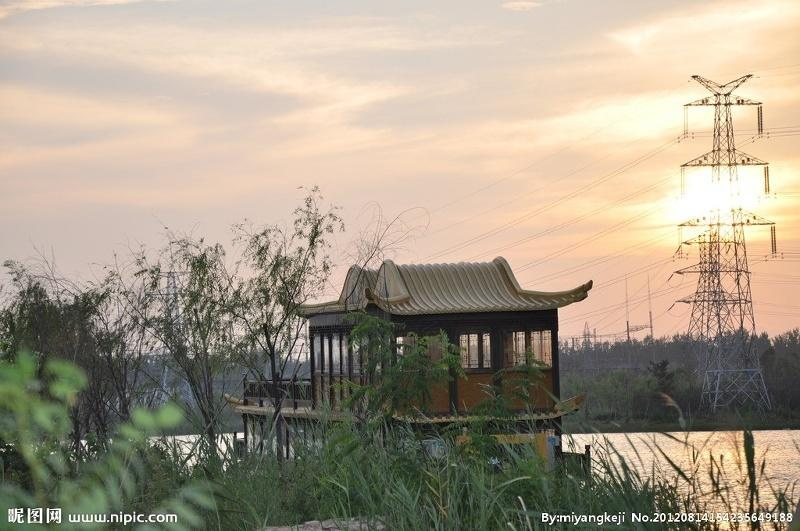power_tower: (662, 69, 784, 423)
